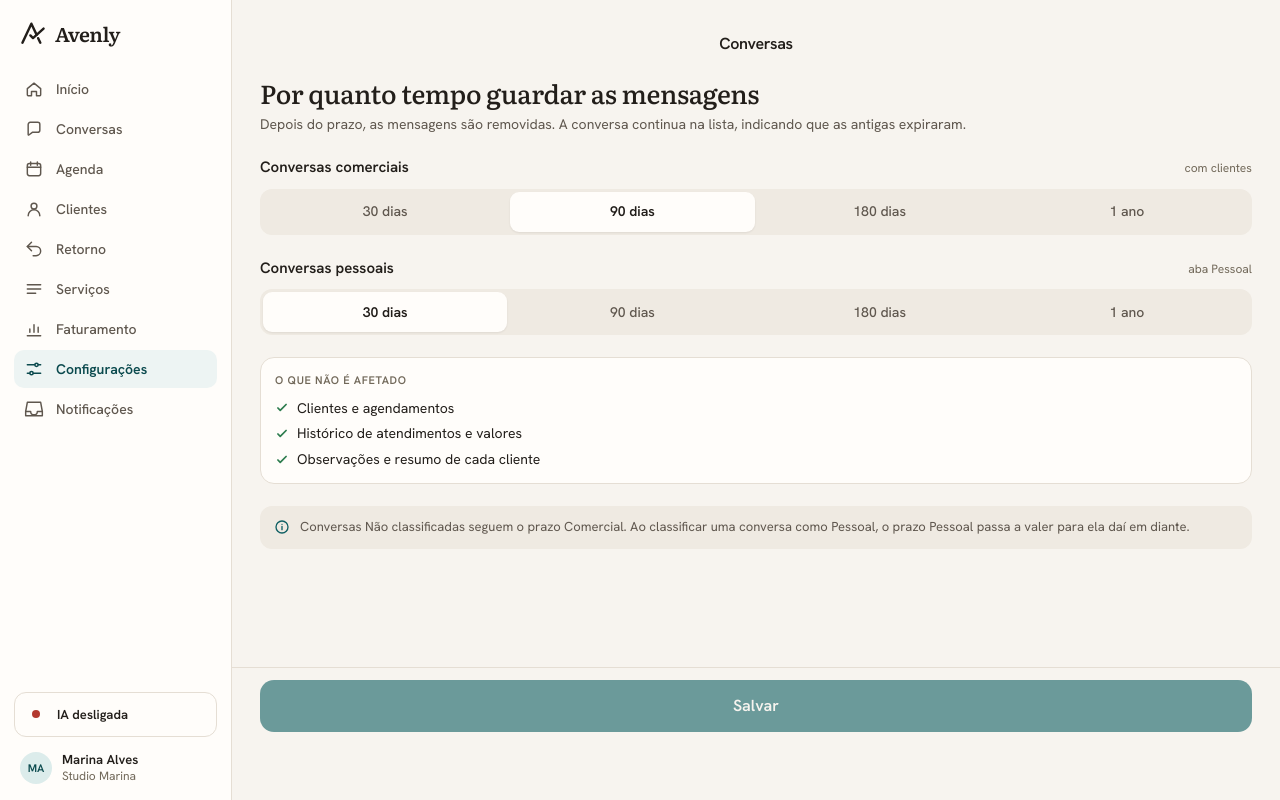
Test case: Goal104 prova 3: R1 em /configuracoes/conversas › aumentar envia um único PATCH com os dois prazos e sem confirmReduction
The width and height of the screenshot is (1280, 800).
Click the radio button labelled "180 dias" below "com clientes" at (880, 211), box [853, 202, 906, 220]
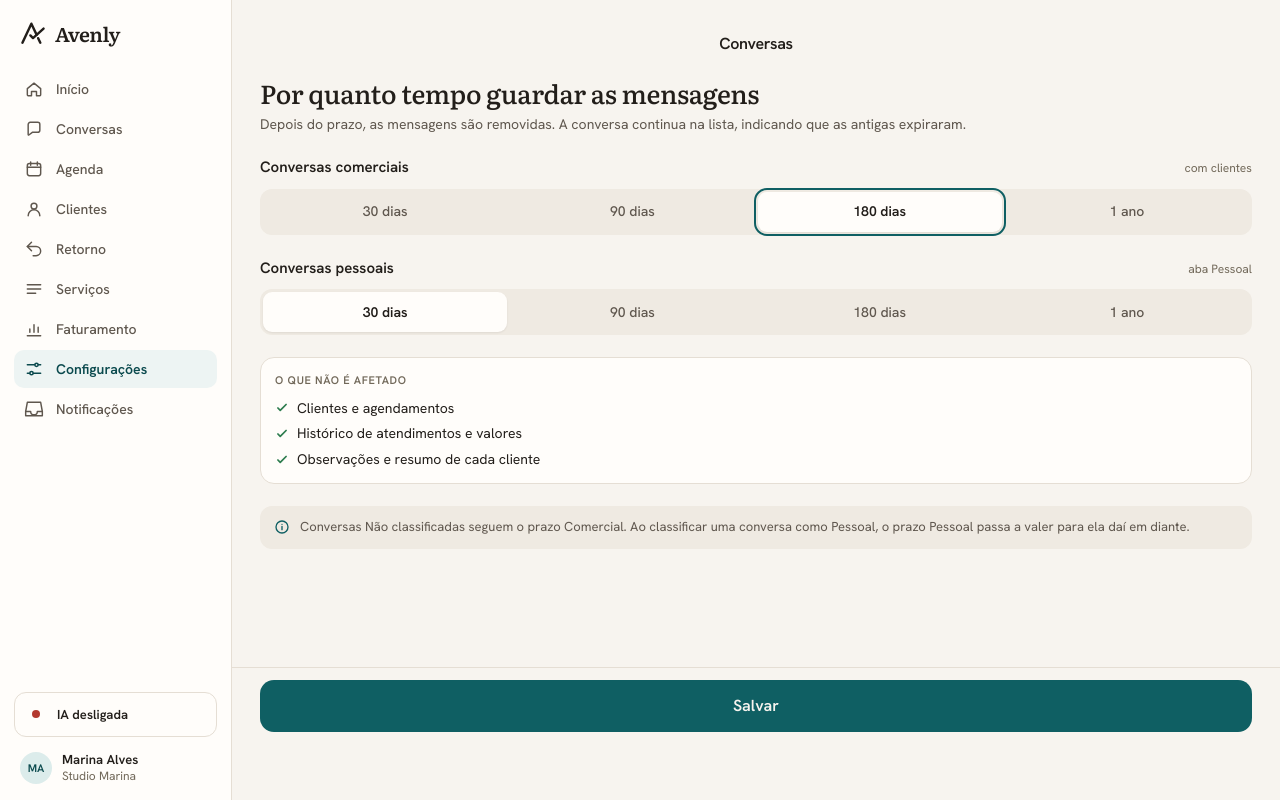
Click the radio button labelled "90 dias" below "Conversas pessoais" at (632, 312), box [610, 303, 655, 321]
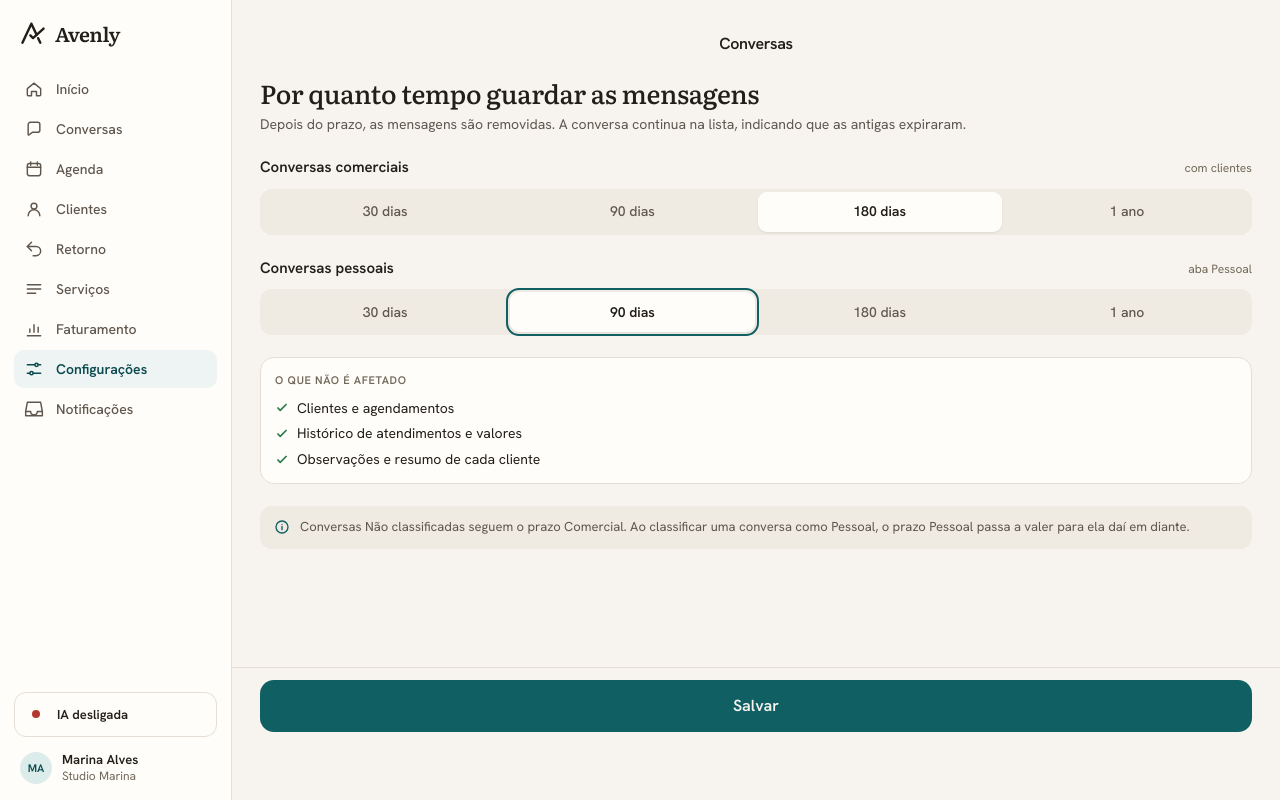
Click the button "Salvar" at (756, 706), box [260, 680, 1252, 732]
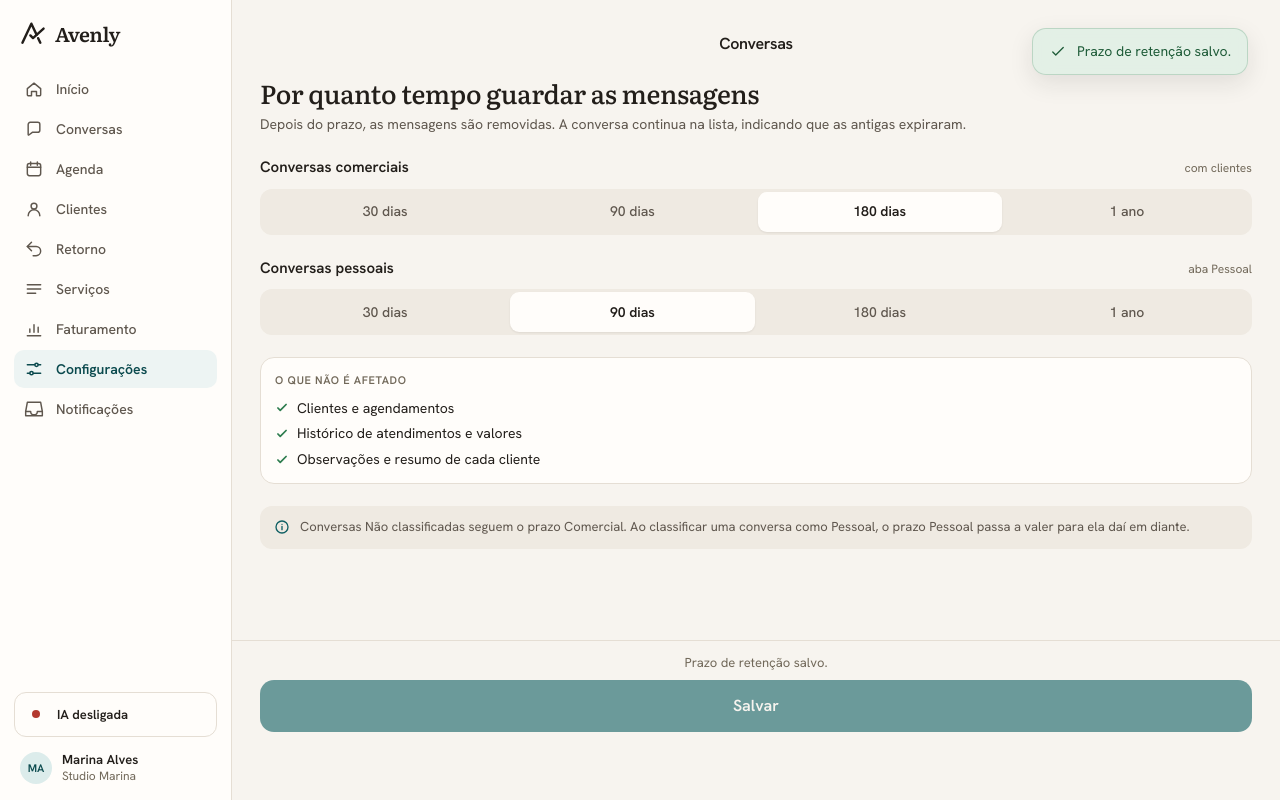
Result: the text "Prazo de retenção salvo." below "Observações e resumo de cada cliente" is shown at [684, 654, 828, 670]
